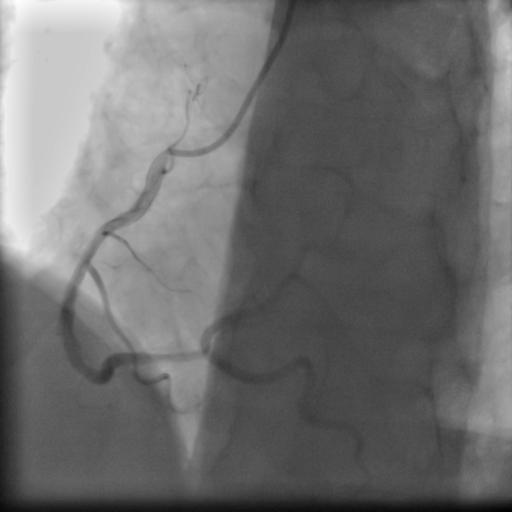Stenosis: (150, 345, 200, 362)
